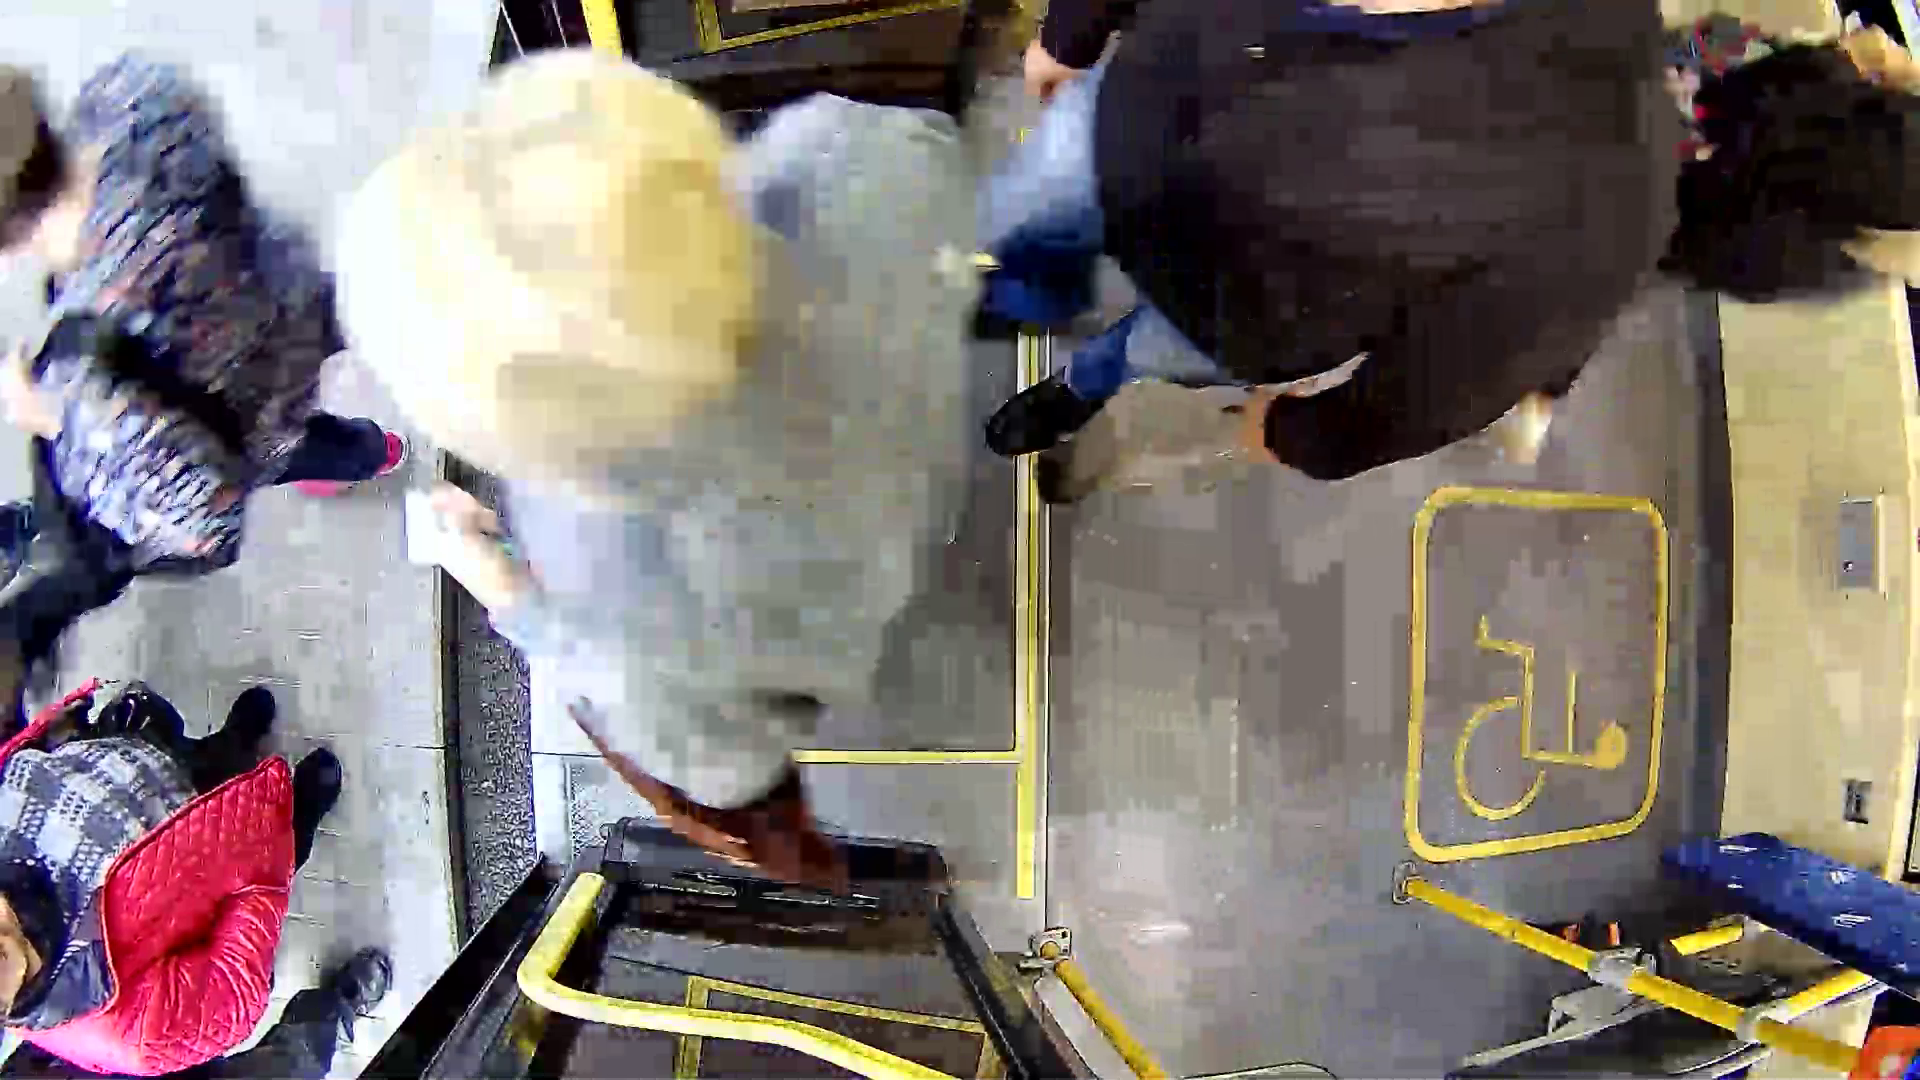person: (325, 106, 983, 778)
